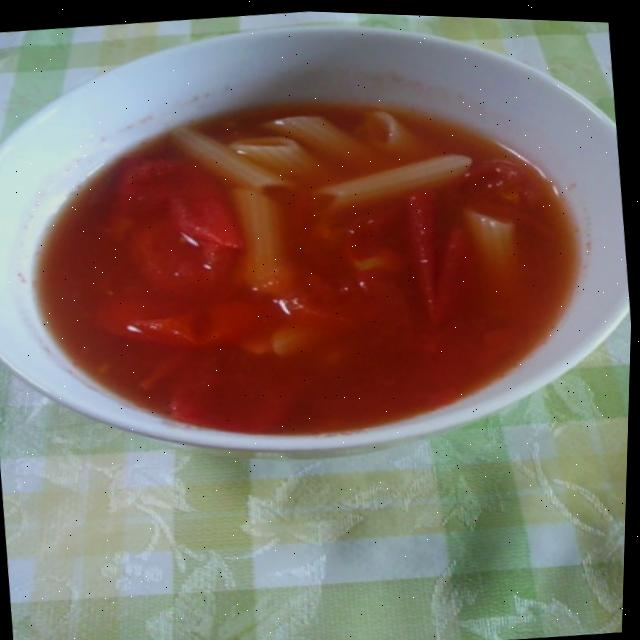蔬菜料理: (0, 195, 269, 546)
